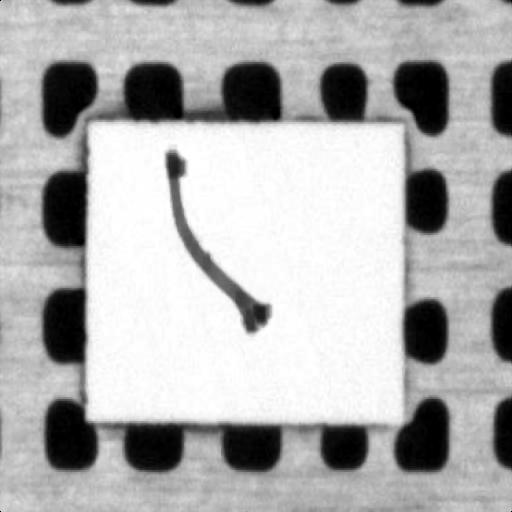DIE_INK: (188, 104, 388, 261)
